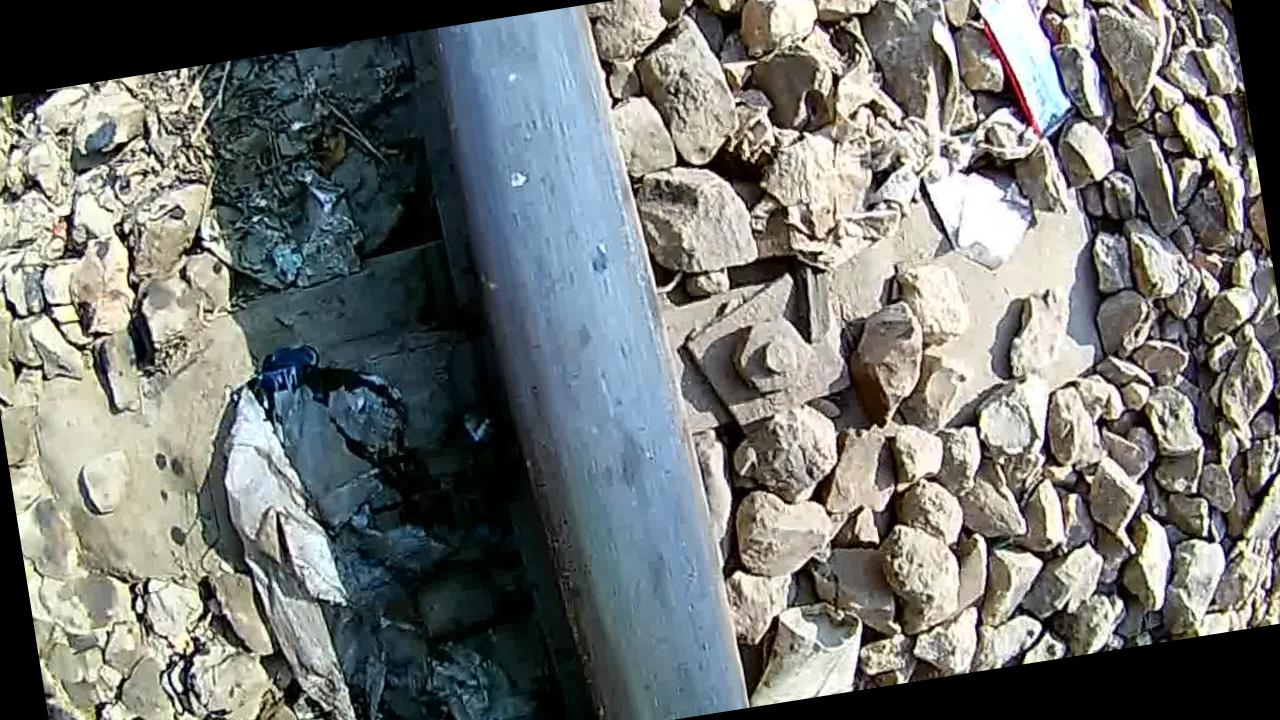bolt_missing: (450, 3, 714, 714)
